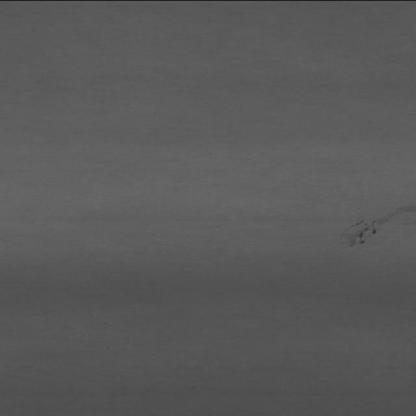inclusion: (341, 216, 379, 249)
water_spot: (383, 202, 416, 222)
